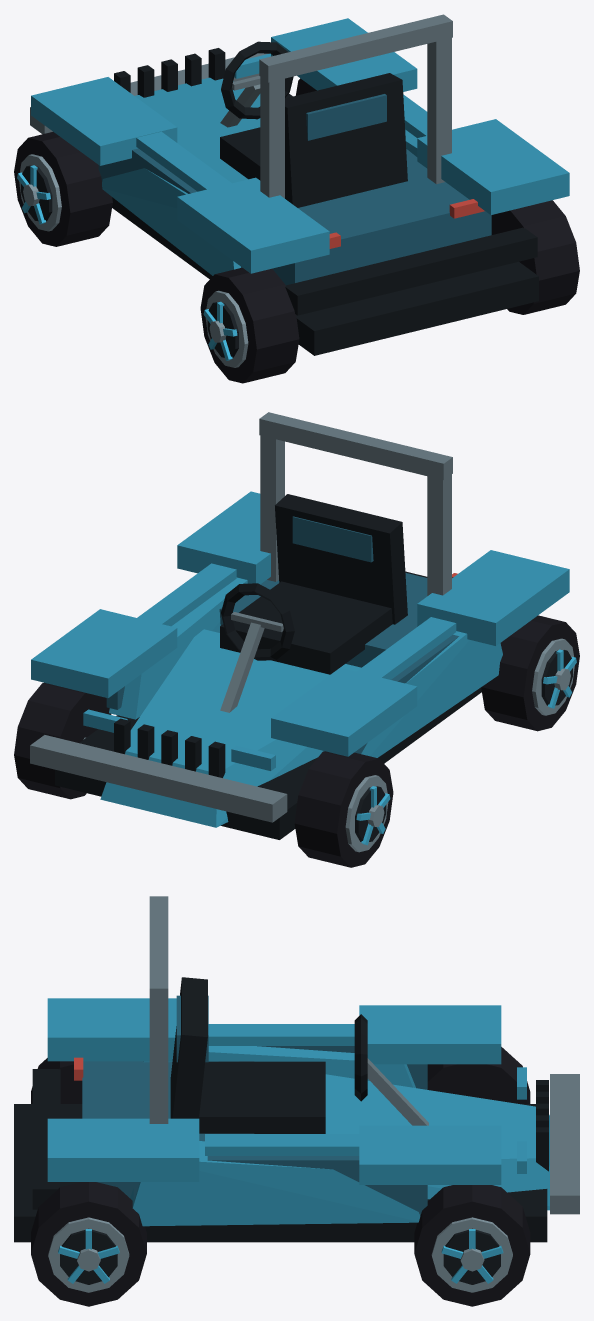
File: kart.glb
3 views of the same model, one above another, from view 1: azimuth 30°, elevation 25°; view 2: azimuth 150°, elevation 25°; view 3: azimuth 270°, elevation 25° (orthographic). The views are drawn at different scales.
Visible parts, largest first — view 1: chassis, wheel-rear-left, wheel-front-left, wheel-rear-right; view 2: chassis, wheel-front-left, wheel-rear-left, wheel-front-right; view 3: chassis, wheel-rear-right, wheel-front-right, wheel-front-left, wheel-rear-left.
Boxes of the visible parts, x1=… form: chassis: x1=30, y1=14, x2=569, y2=355; wheel-rear-left: x1=200, y1=267, x2=299, y2=383; wheel-front-left: x1=14, y1=132, x2=112, y2=246; wheel-rear-right: x1=491, y1=200, x2=579, y2=314; chassis: x1=30, y1=412, x2=569, y2=839; wheel-front-left: x1=294, y1=751, x2=393, y2=867; wheel-rear-left: x1=481, y1=615, x2=579, y2=731; wheel-front-right: x1=14, y1=682, x2=111, y2=799; chassis: x1=14, y1=896, x2=579, y2=1242; wheel-rear-right: x1=31, y1=1182, x2=146, y2=1306; wheel-front-right: x1=414, y1=1185, x2=530, y2=1306; wheel-front-left: x1=427, y1=1047, x2=530, y2=1103; wheel-rear-left: x1=31, y1=1058, x2=82, y2=1103.
Bounding box in the file's own units: 2.22 × 1.67 × 3.02.
